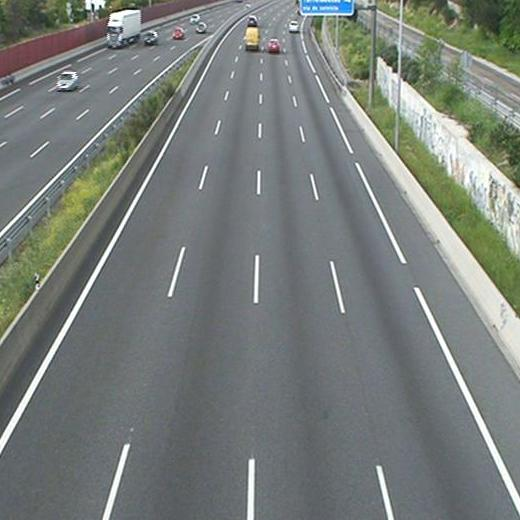car: (268, 40, 279, 53), (247, 16, 257, 27), (289, 21, 299, 32)
van: (245, 26, 260, 50)
